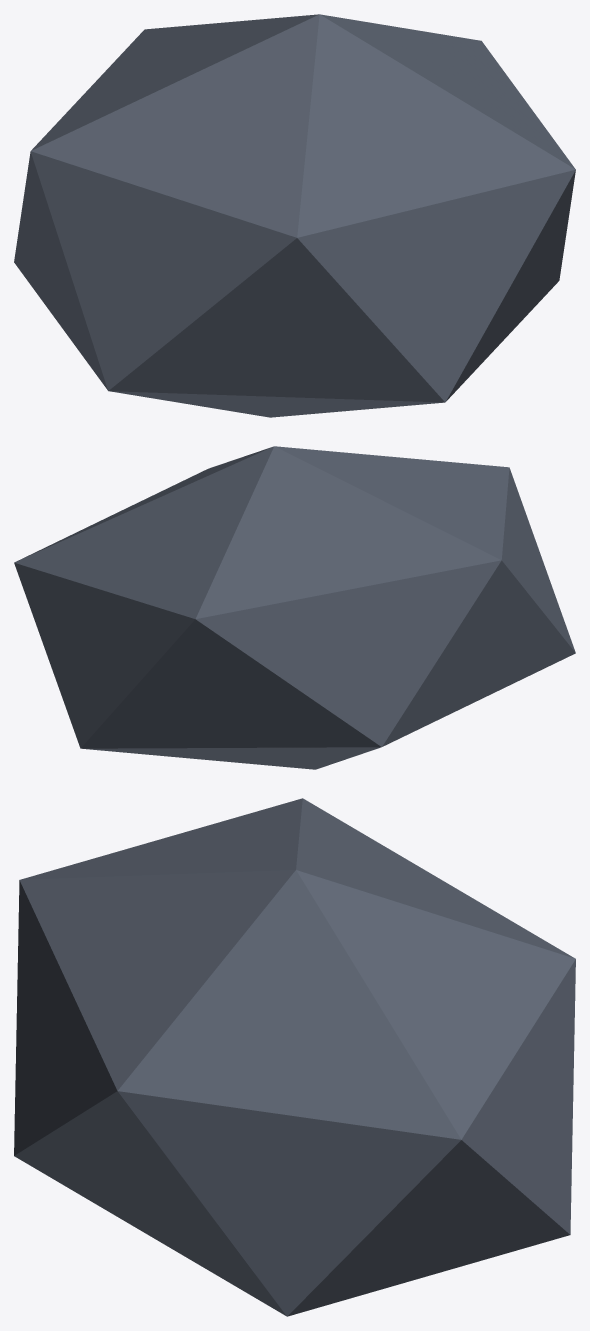
Rendered from EXT_Cairn_05_1.glb.
3 renders of one model, top to bottom at view 1: azimuth 30°, elevation 25°; view 2: azimuth 150°, elevation 25°; view 3: azimuth 270°, elevation 25°, orthographic. The views are drawn at different scales.
Visible parts, largest first — view 1: EXT_Cairn_05_1; view 2: EXT_Cairn_05_1; view 3: EXT_Cairn_05_1.
Part boxes in pixels (box(x1,y1,x2,y2)): EXT_Cairn_05_1: box(14, 14, 575, 417); EXT_Cairn_05_1: box(14, 446, 575, 769); EXT_Cairn_05_1: box(14, 798, 575, 1316).
Size of the model in its own units: 0.911 by 0.6343 by 0.807.
